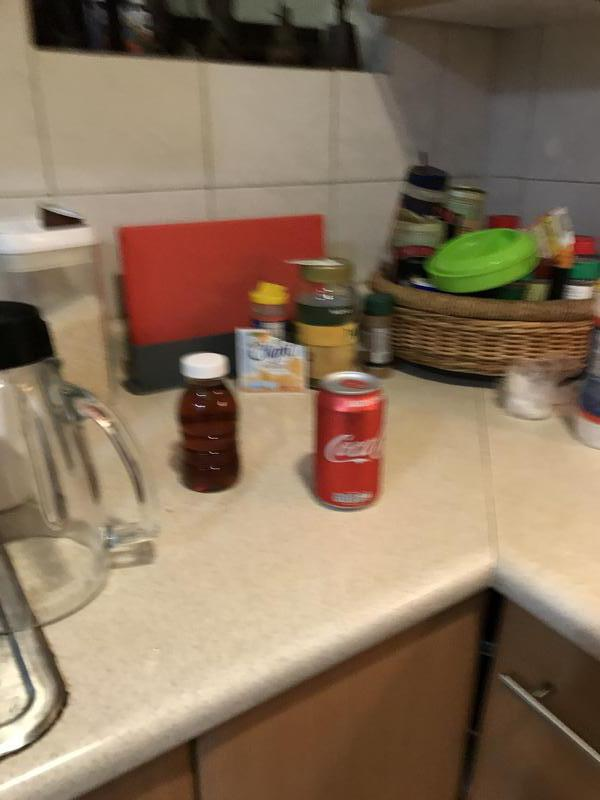coca_cola: (314, 374, 385, 510)
